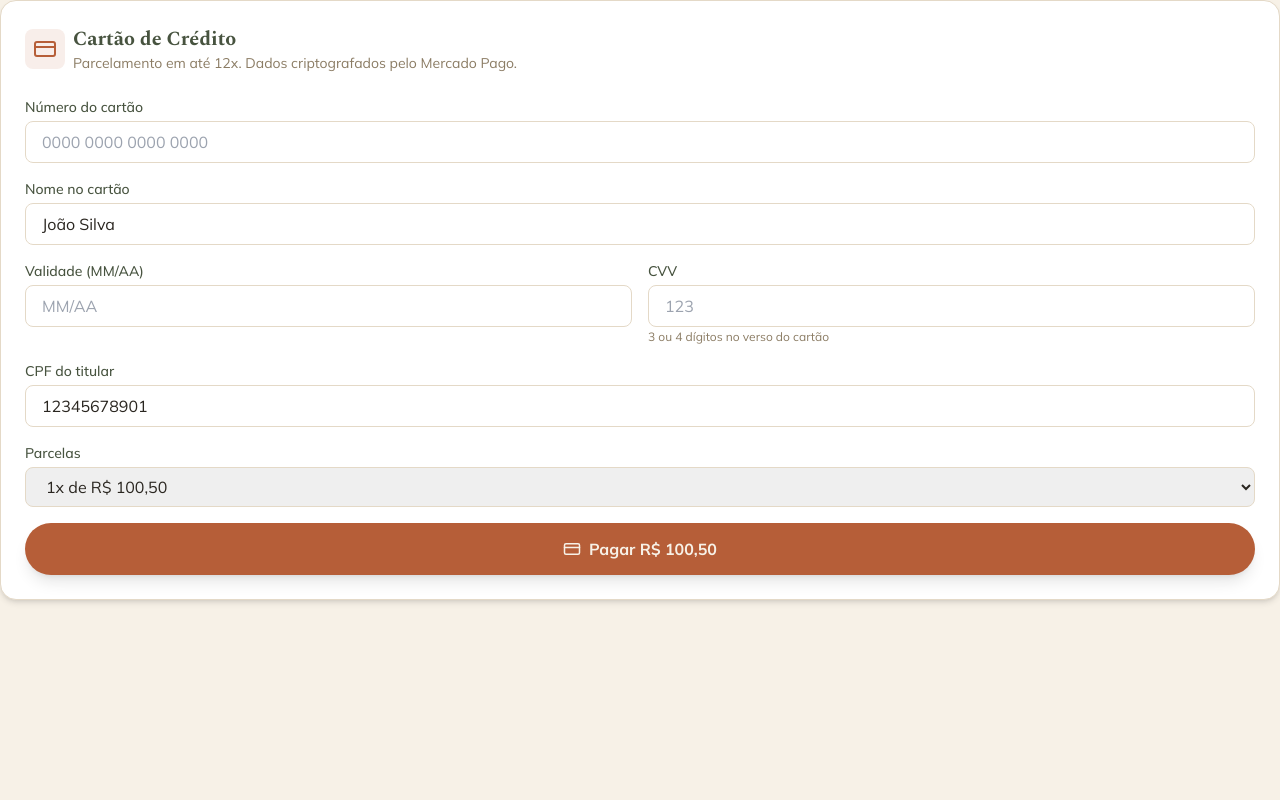
Test case: CardPaymentForm › deve formatar data de validade ao digitar
Type "1225" into the field with placeholder "MM/AA".
click(328, 306); type("1225")  # box x1=25 y1=285 x2=632 y2=327
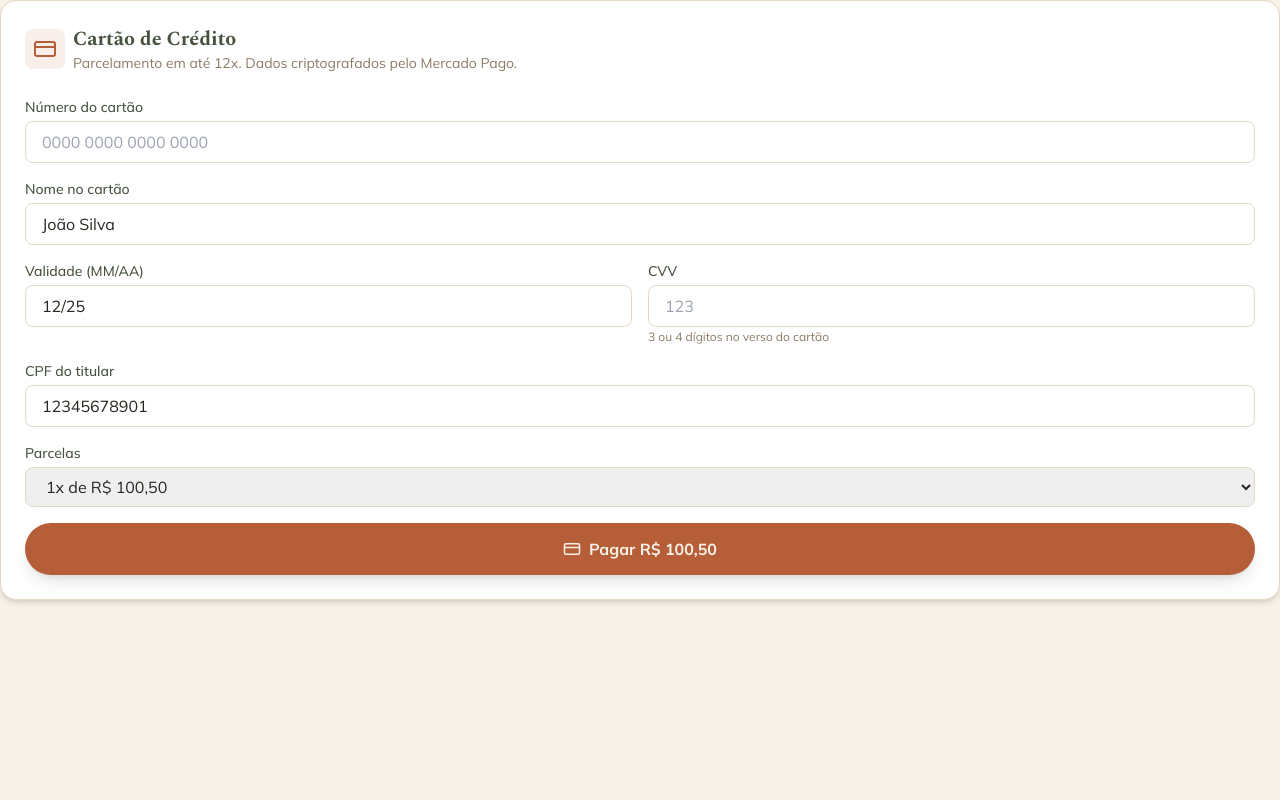
Expected: the field with placeholder "MM/AA" below "Validade (MM/AA)" holds "12/25", x1=25 y1=285 x2=632 y2=327
